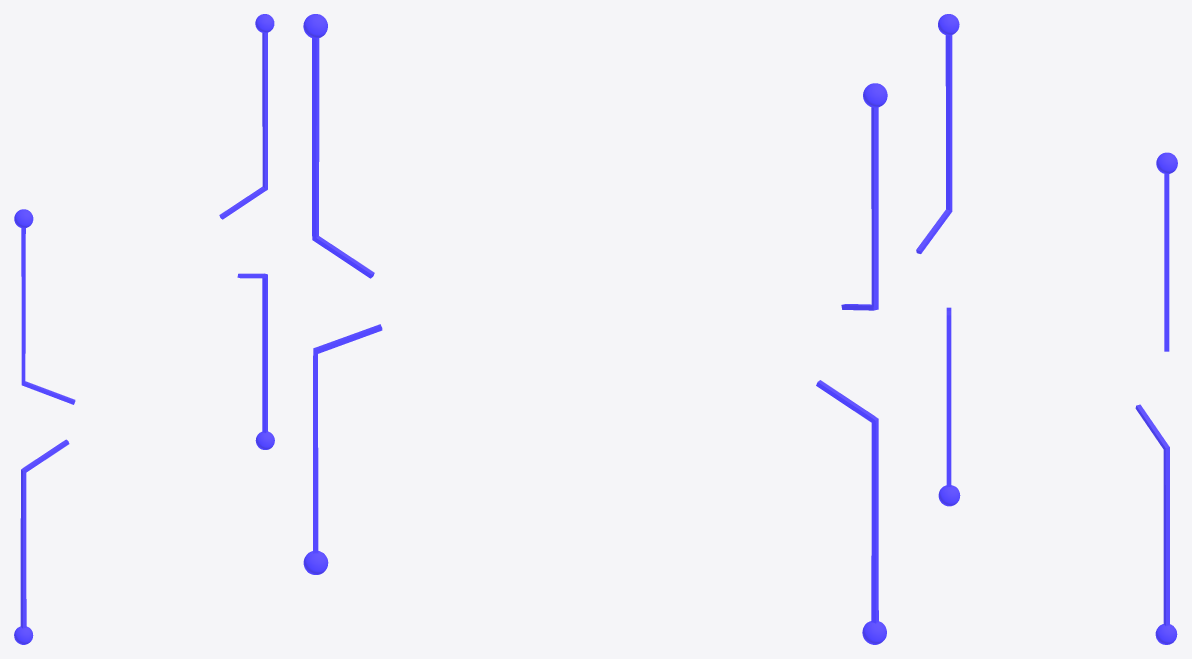
File: SegnPortraitSocial3.gltf
The picture shows the model from 3 angles, left to right: view 1: azimuth 30°, elevation 25°; view 2: azimuth 150°, elevation 25°; view 3: azimuth 270°, elevation 25°; orthographic projection. The views are drawn at different scales.
Visible parts, largest first — view 1: ListnerModuli.009; view 2: ListnerModuli.009; view 3: ListnerModuli.009.
Boxes of the visible parts, x1,y1,x2,y2 form: ListnerModuli.009: (14,14,274,644); ListnerModuli.009: (303,14,887,644); ListnerModuli.009: (916,14,1177,644).
Bounding box in the file's own units: 0.8989 × 1.15 × 0.5092.
